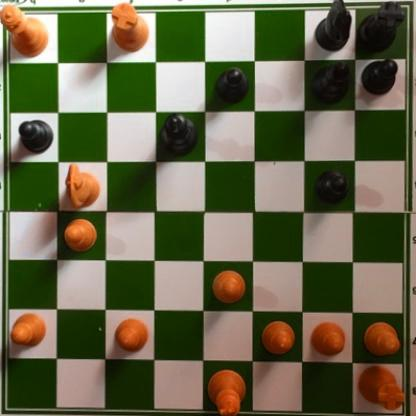black-bishop: (306, 59, 349, 102)
black-king: (157, 110, 200, 156)
black-knight: (315, 1, 354, 55)
black-pawn: (360, 54, 400, 94), (211, 66, 249, 105), (16, 117, 54, 153), (312, 169, 348, 205)
black-rook: (354, 1, 404, 54)
white-king: (204, 366, 247, 416)
white-knight: (61, 160, 101, 209)
white-pawn: (9, 308, 48, 348), (308, 320, 348, 358), (256, 320, 295, 358), (210, 264, 247, 303), (361, 322, 399, 358), (62, 217, 97, 255), (114, 318, 149, 353)
white-queen: (1, 1, 49, 57)
white-rook: (353, 362, 406, 411), (105, 1, 148, 54)
